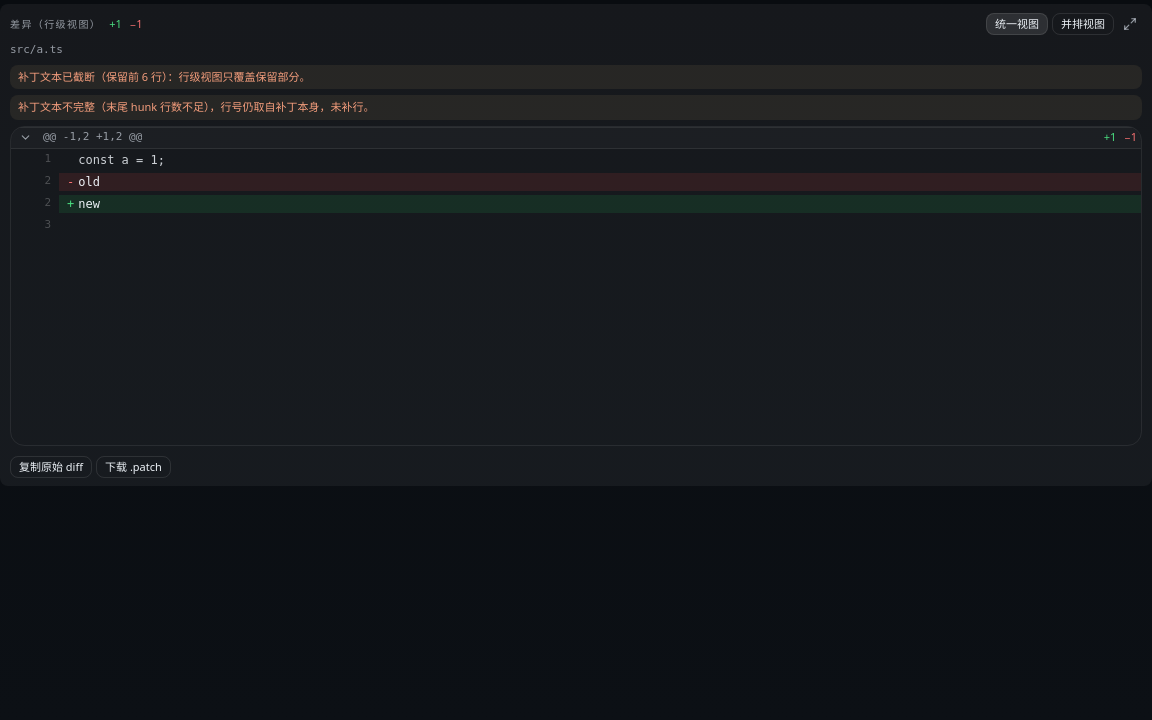
Test: ToolRowDiffPanel 放大差异视图 › 诚实提示在放大面板里同样出现（同一份正文，不是第二份实现）
Expected: the number of elements with test id "tool-row-diff-truncated" is 1, [10,64,1142,89]
Click the button with test id "tool-row-diff-expand" at x=1130, y=24, box [1118,12,1142,36]
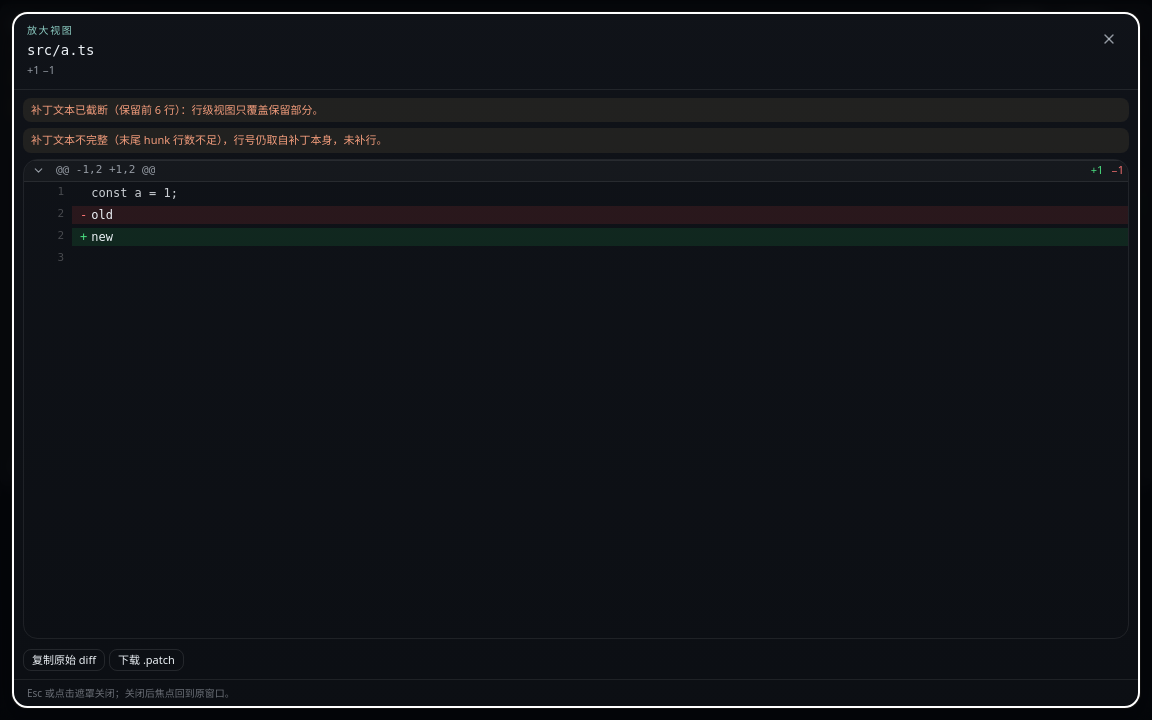
Now the number of elements with test id "tool-row-diff-truncated" is 2, box [10,64,1142,89]; [23,98,1129,122]
